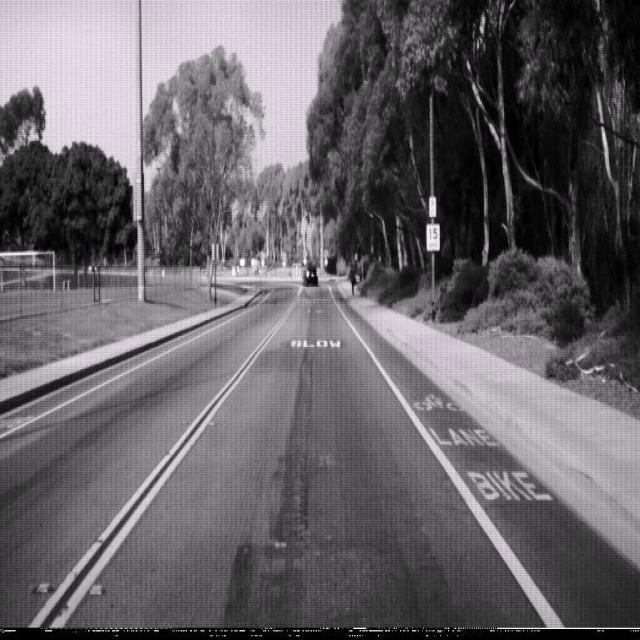speedLimit15: (426, 222, 440, 251)
